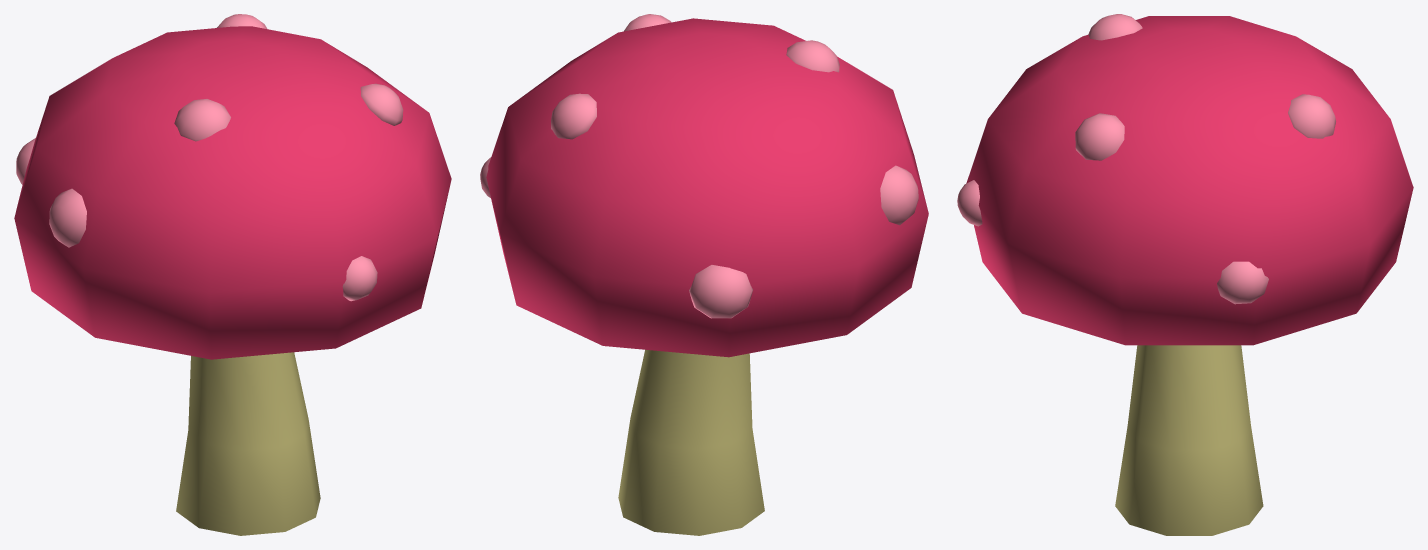
The model's file is Mushroom_FlyAgaric_Pink_1.fbx.
3 views of the same model, side by side, from view 1: azimuth 30°, elevation 25°; view 2: azimuth 150°, elevation 25°; view 3: azimuth 270°, elevation 25° (orthographic).
Parts seen in each view (by area): view 1: Cylinder.297, Cylinder.298, Cylinder.299; view 2: Cylinder.297, Cylinder.298, Cylinder.299; view 3: Cylinder.297, Cylinder.298, Cylinder.299.
Part boxes in pixels (<box>): Cylinder.297: <box>14,26,451,359</box>; Cylinder.298: <box>176,352,320,535</box>; Cylinder.299: <box>16,14,403,301</box>; Cylinder.297: <box>486,18,928,357</box>; Cylinder.298: <box>618,349,764,535</box>; Cylinder.299: <box>480,14,918,318</box>; Cylinder.297: <box>966,16,1413,345</box>; Cylinder.298: <box>1115,345,1263,535</box>; Cylinder.299: <box>957,14,1335,304</box>.
Bounding box in the file's own units: 81.42 × 90.46 × 83.11.
